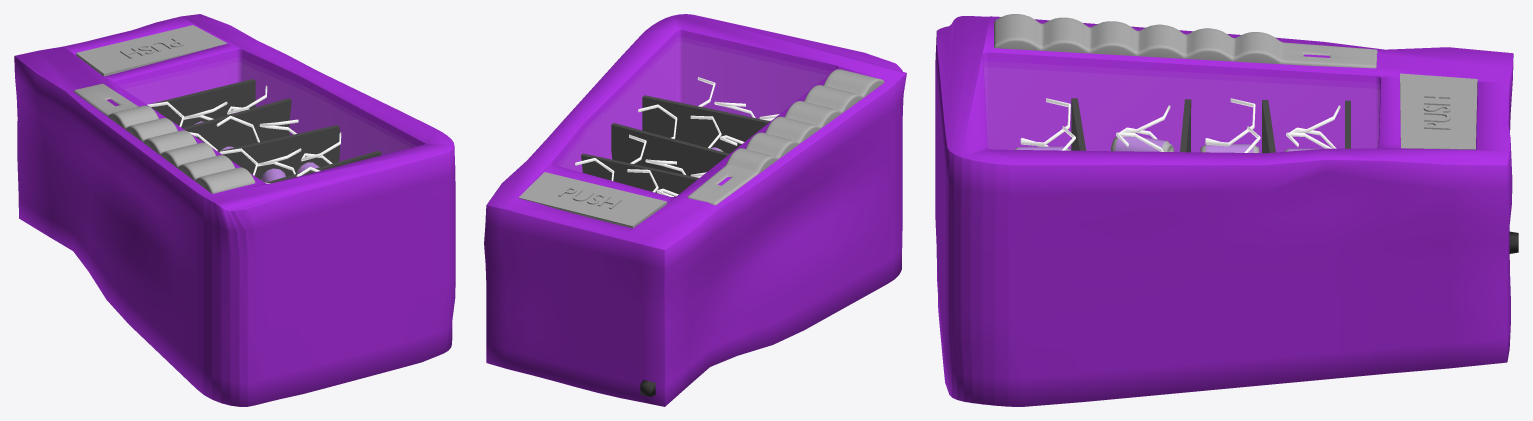
Rendered from loader.glb.
The picture shows the model from 3 angles, left to right: view 1: azimuth 30°, elevation 25°; view 2: azimuth 150°, elevation 25°; view 3: azimuth 270°, elevation 25°; orthographic projection. The views are drawn at different scales.
Visible parts, largest first — view 1: Cube, Plane.004, Plane.001, push, Circle; view 2: Cube, Plane.004, Plane.001, push, Circle; view 3: Cube, Plane.001, push, Circle, Plane.004, Plane.024.
Boxes of the visible parts, x1,y1,x2,y2 form: Cube: (14, 14, 455, 406); Plane.004: (149, 79, 381, 183); Plane.001: (73, 83, 255, 193); push: (76, 25, 227, 76); Circle: (147, 85, 341, 183); Cube: (484, 14, 906, 406); Plane.004: (581, 95, 770, 196); Plane.001: (687, 69, 884, 205); push: (518, 172, 667, 228); Circle: (575, 77, 779, 196); Cube: (935, 16, 1513, 406); Plane.001: (994, 14, 1377, 68); push: (1400, 73, 1477, 149); Circle: (1020, 98, 1340, 152); Plane.004: (1071, 98, 1350, 153); Plane.024: (1110, 136, 1173, 151).
Size of the model in its own units: 2.27 by 1.83 by 3.76.
